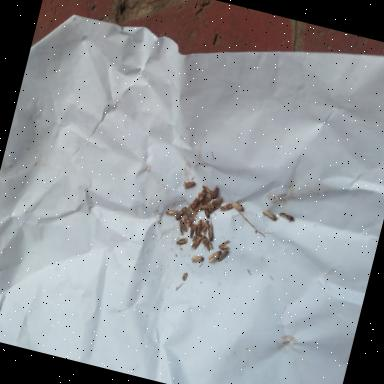pbw: (204, 216, 218, 242), (198, 234, 214, 254), (260, 208, 280, 221), (173, 218, 189, 234), (277, 210, 295, 224), (190, 232, 202, 253), (206, 248, 221, 264), (174, 236, 188, 252), (174, 204, 186, 222), (216, 237, 230, 252), (190, 251, 205, 264), (180, 212, 192, 228), (216, 248, 228, 264), (199, 218, 210, 235), (219, 200, 233, 213), (199, 182, 214, 194), (195, 188, 206, 204), (194, 218, 204, 235), (188, 196, 200, 210), (182, 178, 196, 190), (192, 202, 206, 214), (209, 201, 221, 215), (230, 201, 245, 212), (164, 208, 178, 218), (202, 206, 212, 220), (202, 192, 213, 204), (188, 223, 196, 238), (186, 206, 198, 216), (210, 186, 218, 199), (211, 196, 222, 205), (204, 201, 216, 209)
